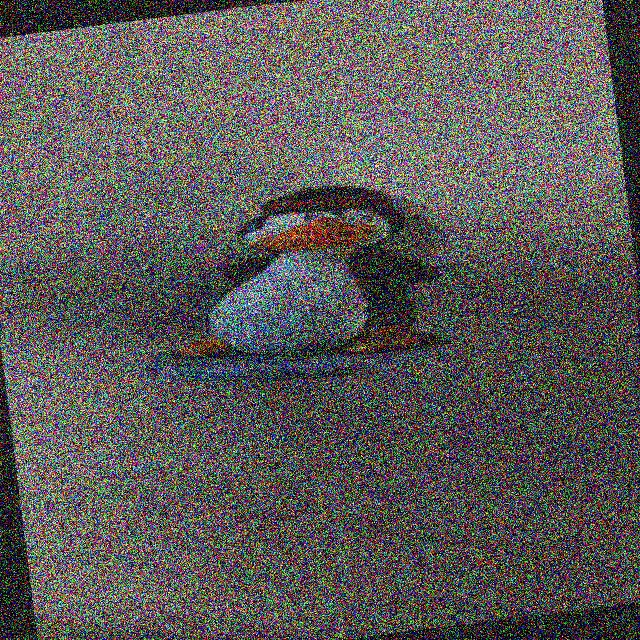Penguin: (118, 161, 482, 408)
